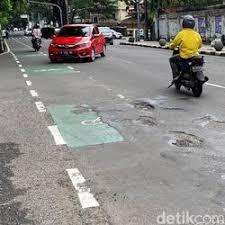Pothole: (74, 94, 220, 150)
